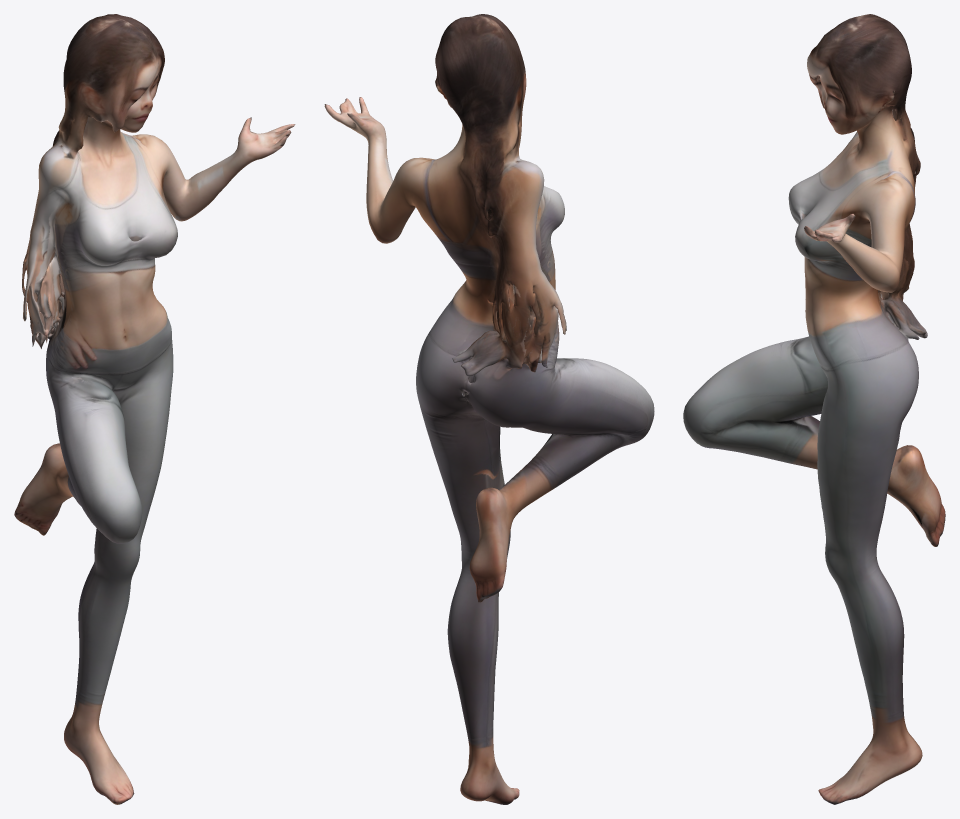
Rendered from girl.glb.
3 views of the same model, side by side, from view 1: azimuth 30°, elevation 25°; view 2: azimuth 150°, elevation 25°; view 3: azimuth 270°, elevation 25° (orthographic). The views are drawn at different scales.
Size of the model in its own units: 0.7139 by 2 by 0.6048.
Materials: 1 (1 with a texture image).
